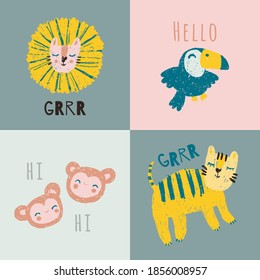animal: (138, 148, 245, 243), (23, 17, 108, 94), (12, 181, 67, 228), (65, 159, 118, 205)
bird: (158, 46, 230, 107)
